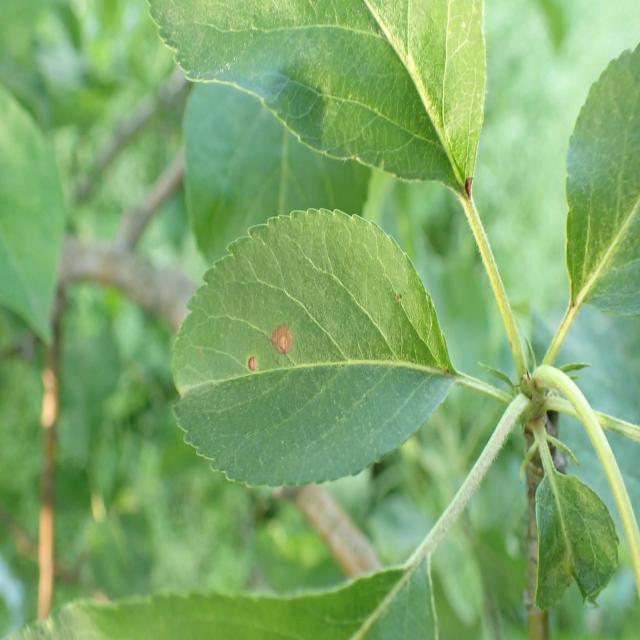Black Rot: (268, 306, 300, 377), (237, 343, 266, 396)
